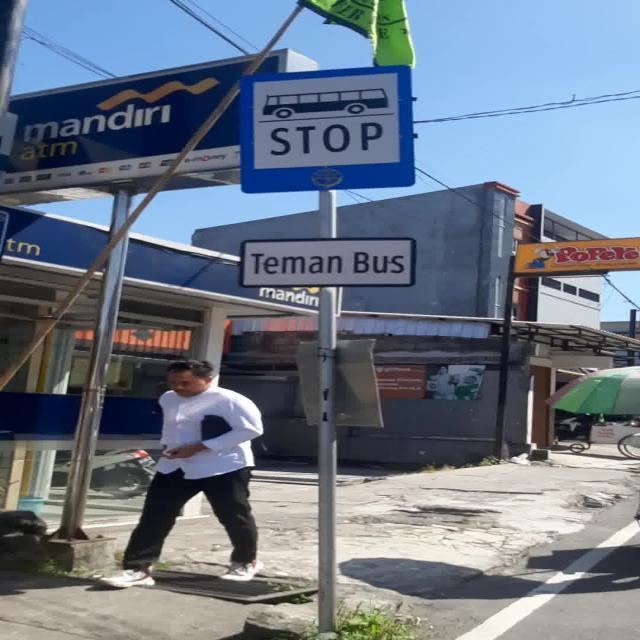Pemberhentian Bus: (239, 64, 416, 194)
